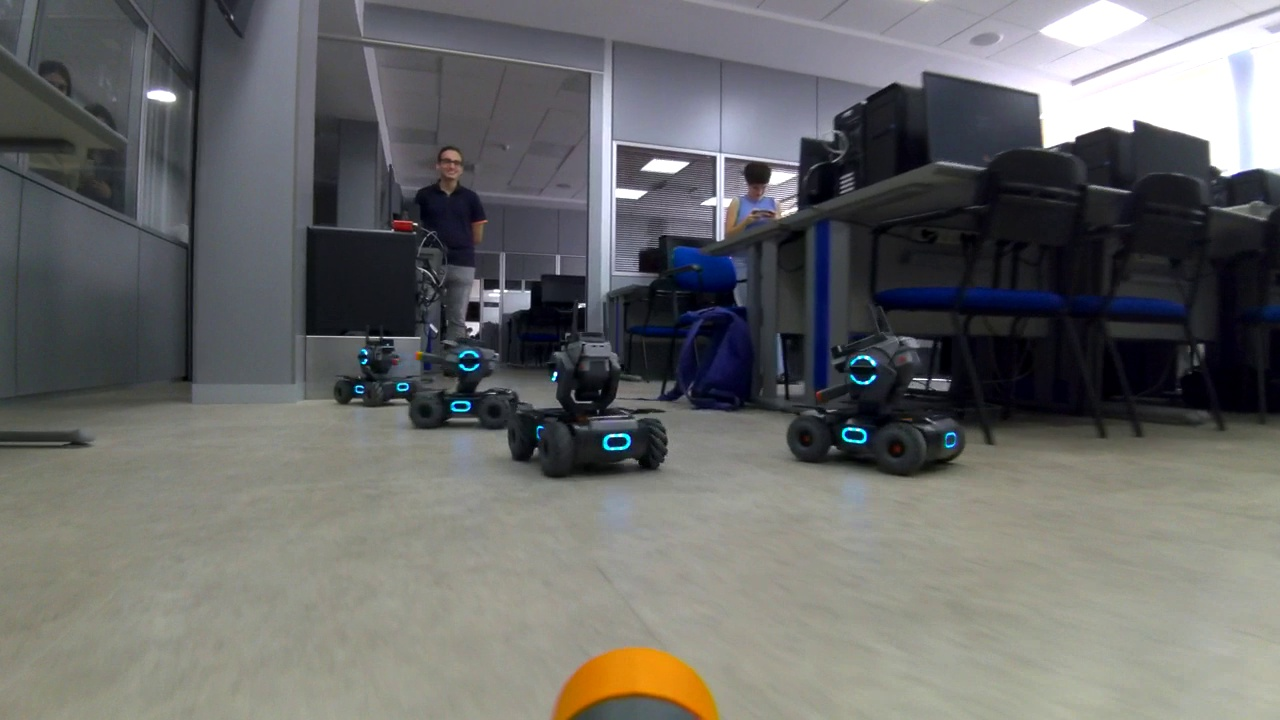robot: (791, 301, 973, 473), (517, 314, 676, 484), (406, 330, 535, 432), (327, 323, 414, 405)
